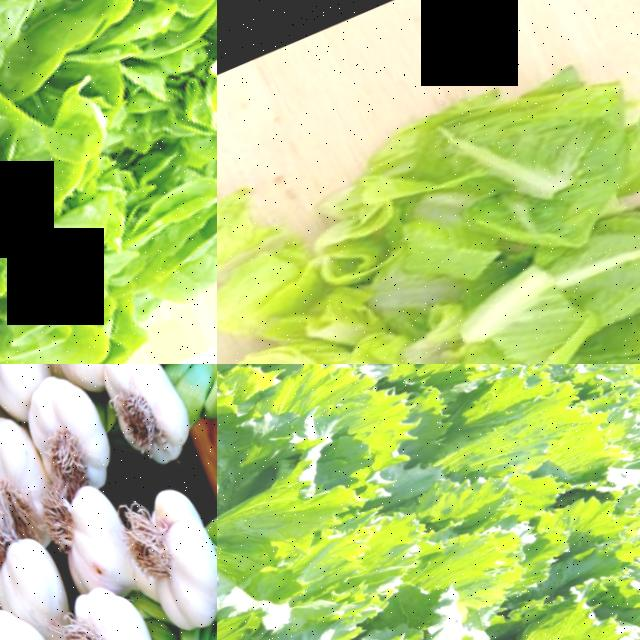garlic: (116, 472, 217, 635), (15, 366, 129, 499), (94, 364, 205, 471), (0, 400, 69, 541), (50, 570, 186, 640)
lettuce: (217, 22, 640, 364), (0, 0, 217, 364), (217, 440, 440, 640), (217, 364, 414, 511), (295, 567, 583, 640), (372, 364, 569, 414), (558, 364, 640, 451)
